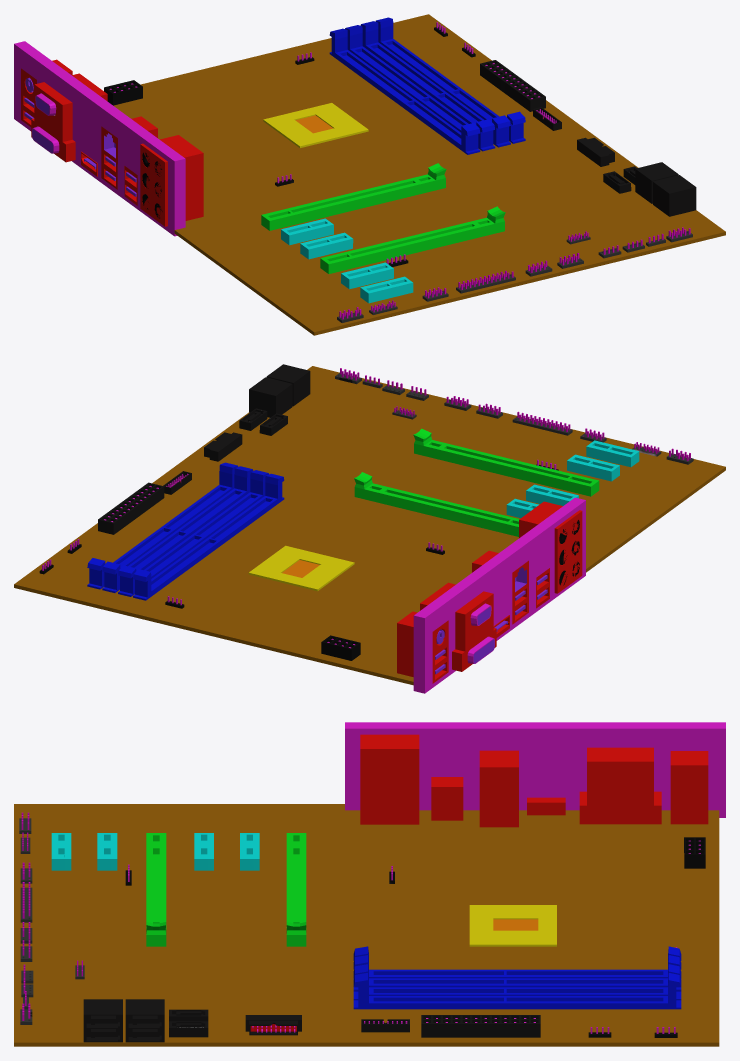
Rendered from MotherBoard.fbx.
3 views of the same model, one above another, from view 1: azimuth 30°, elevation 25°; view 2: azimuth 150°, elevation 25°; view 3: azimuth 270°, elevation 25° (orthographic). The views are drawn at different scales.
Parts seen in each view (by area): view 1: mBoard; view 2: mBoard; view 3: mBoard.
Boxes of the visible parts, box(x1,y1,x2,y2) form: mBoard: box(14, 14, 725, 335); mBoard: box(14, 364, 725, 693); mBoard: box(14, 722, 725, 1046).
Bounding box in the file's own units: 25.31 × 4.26 × 30.79.
